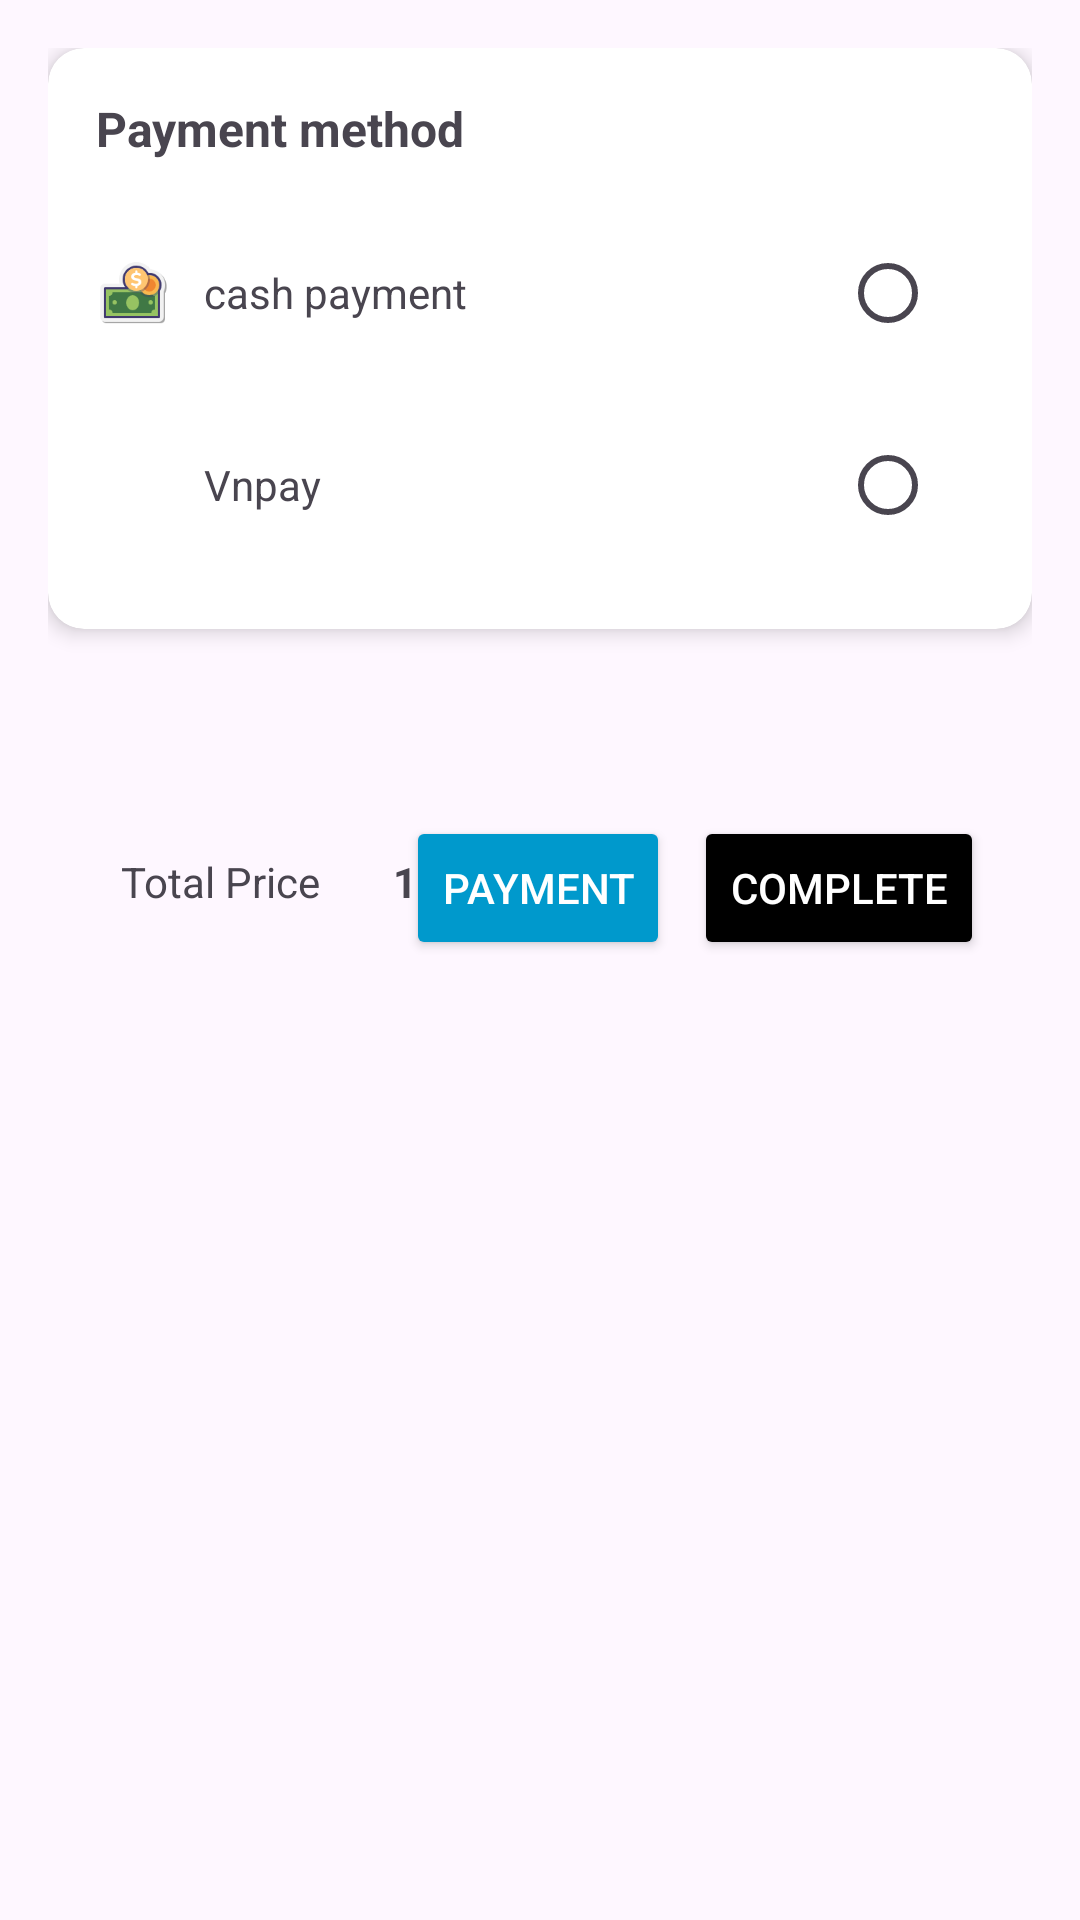

Named icons in this screenshot (1080 × 1920) and their bounding boxes, (x1, y1, x2, y2):
cod: (103, 265, 167, 323)
